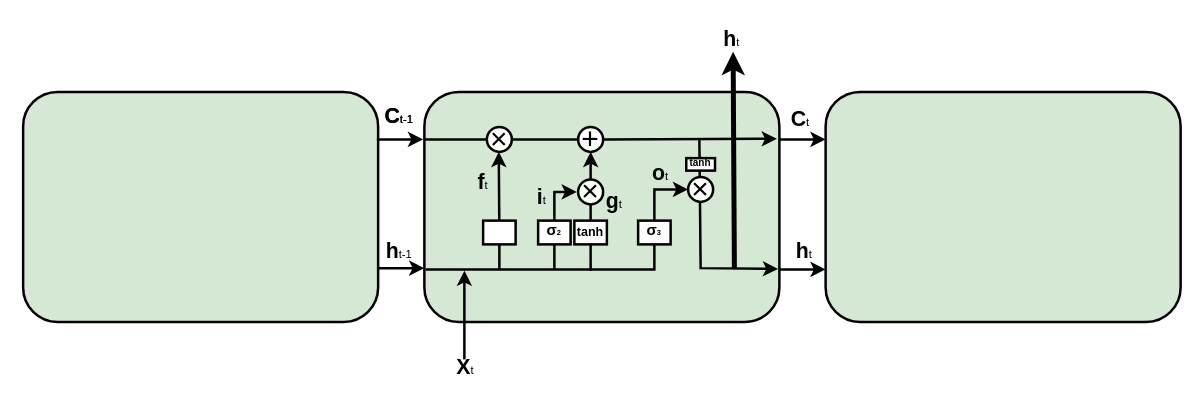
Image size: 1203x408. Some labels were removed from this diagram. Here are the shapes that lost their labels. From the top down, the box of each, then its label:
(21, 90, 379, 322): t-1
(824, 90, 1181, 322): t+1
(481, 219, 516, 245): σ 1
